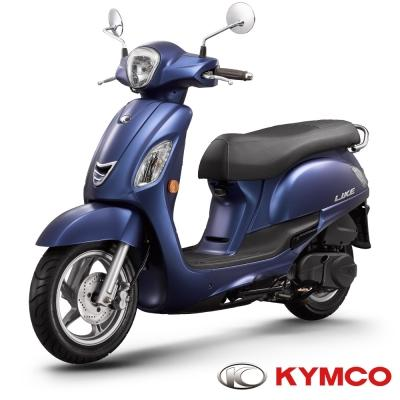motorcycle: (11, 5, 385, 359)
